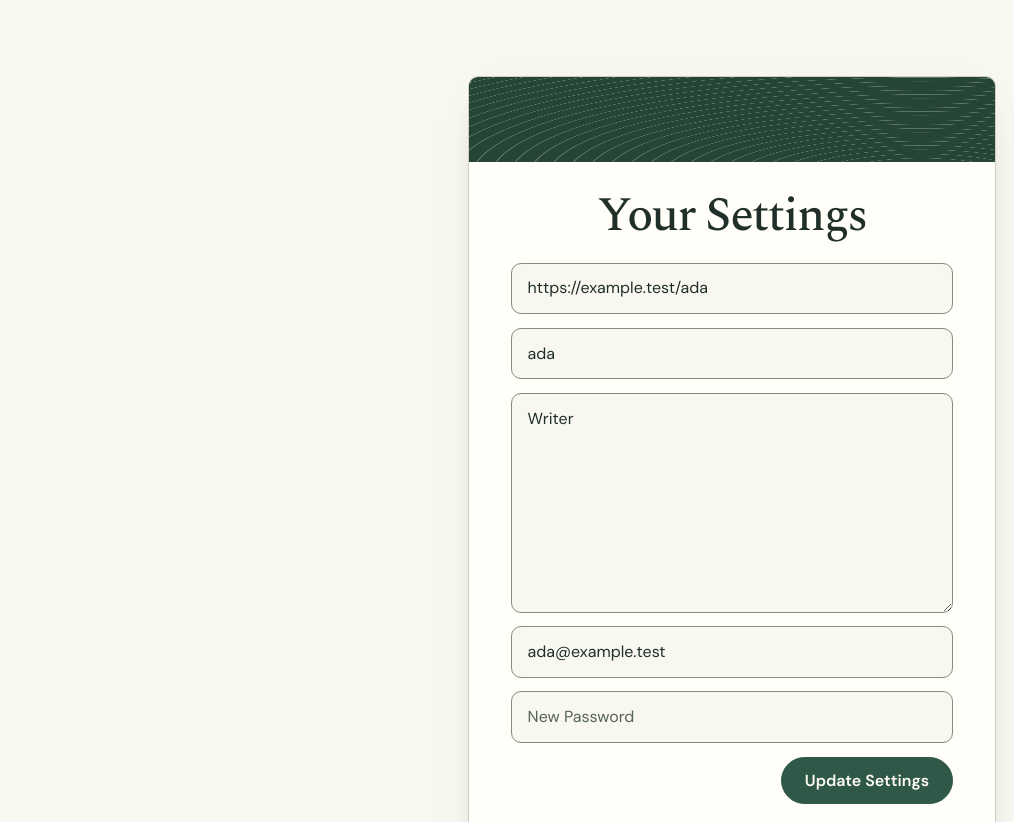
it: account forms › clears optional profile fields, omits a blank password and navigates to the returned username
The image size is (1014, 822).
Clear the text box named "bio": (732, 503) [511,393,953,613]
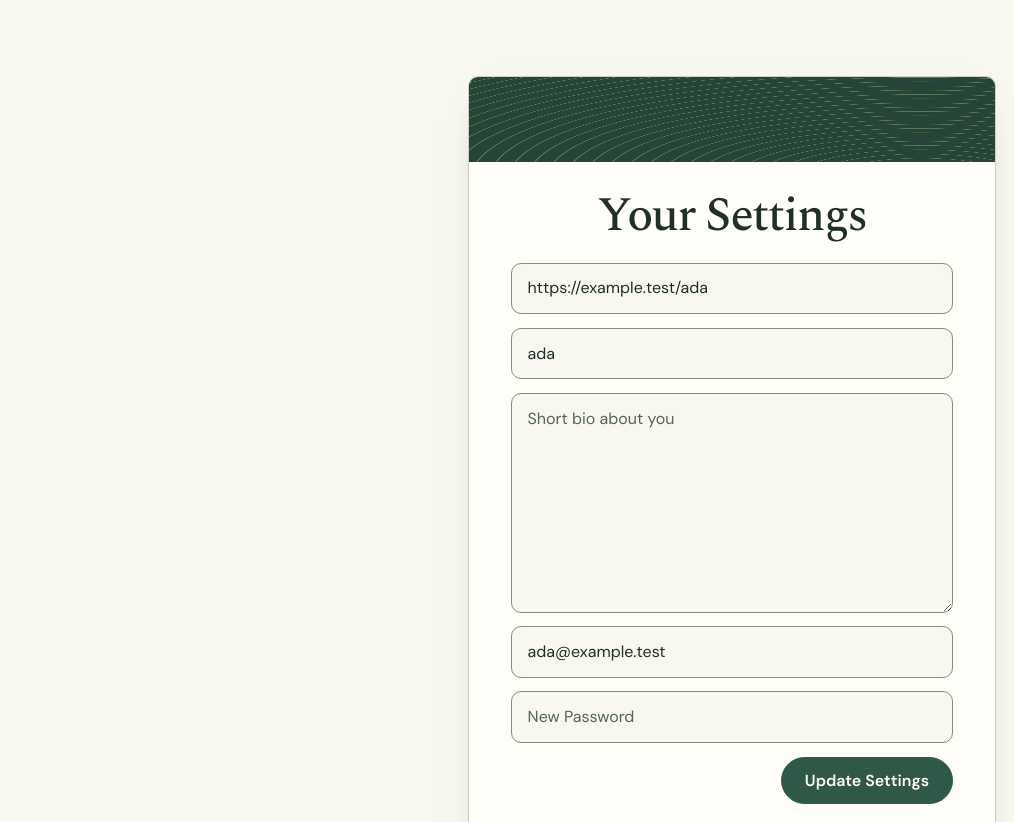
Clear the field named "Profile image URL": (732, 288) [511,263,953,314]
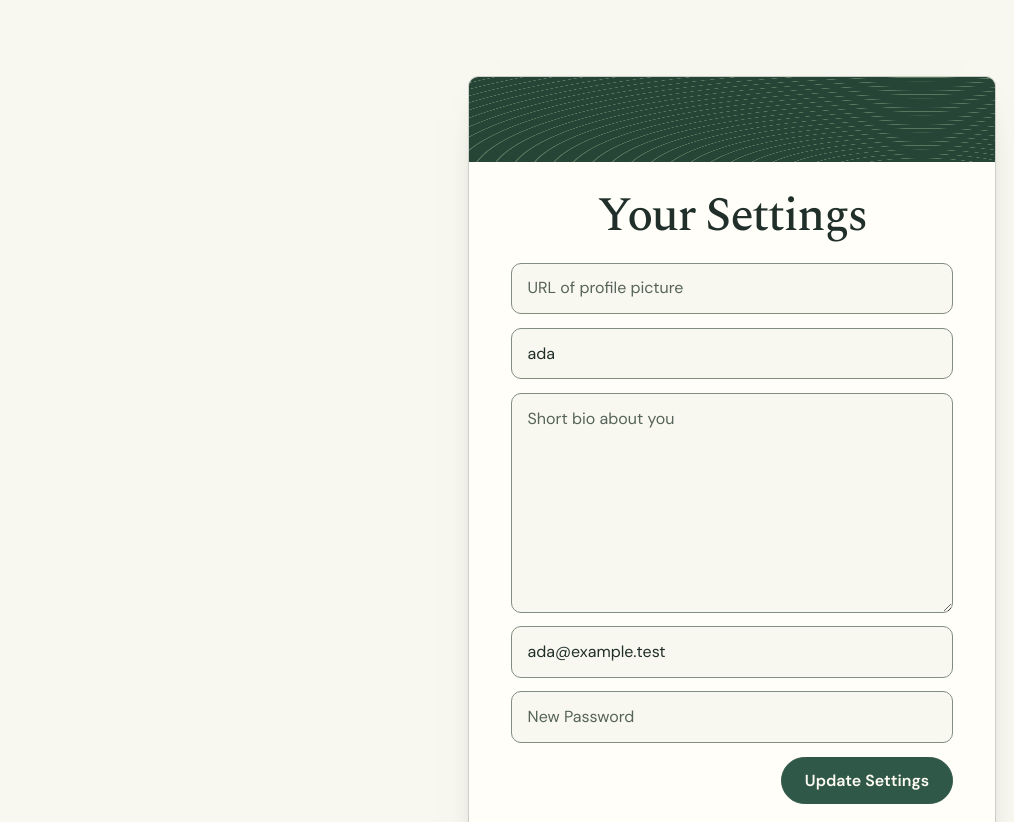
Replace the text in the field named "Username" with "new-name": (732, 354) [511,328,953,379]
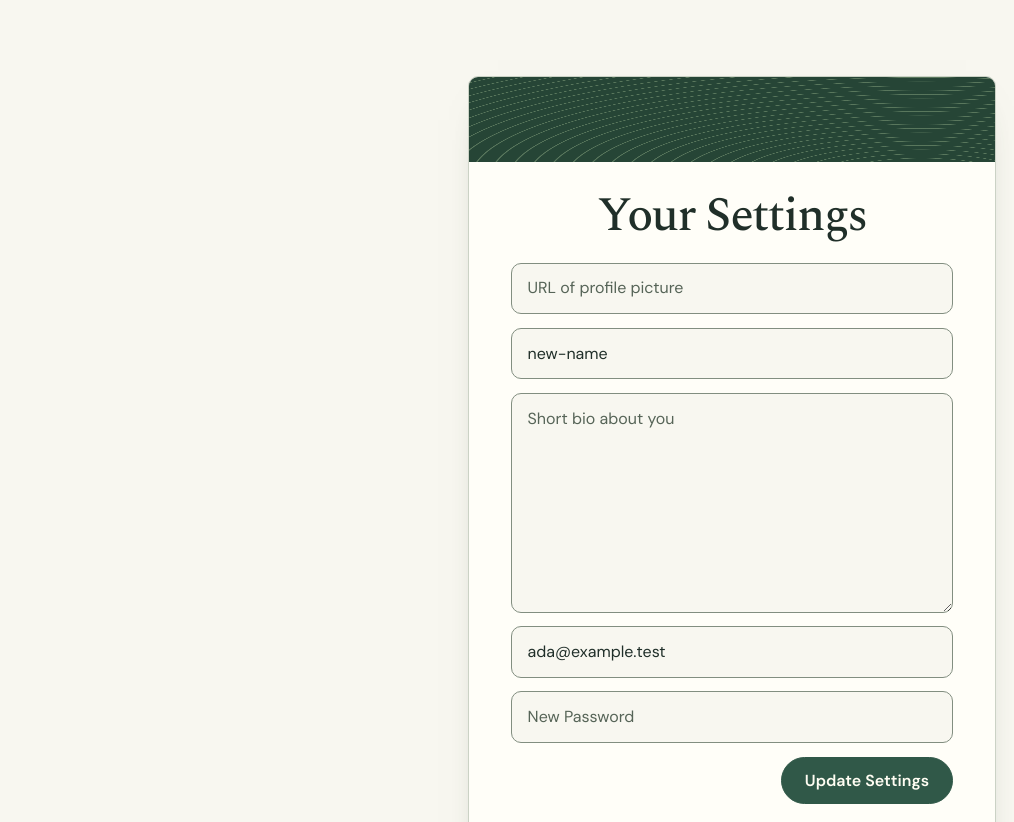
Click the button "Update Settings": (867, 780) [781,756,953,804]
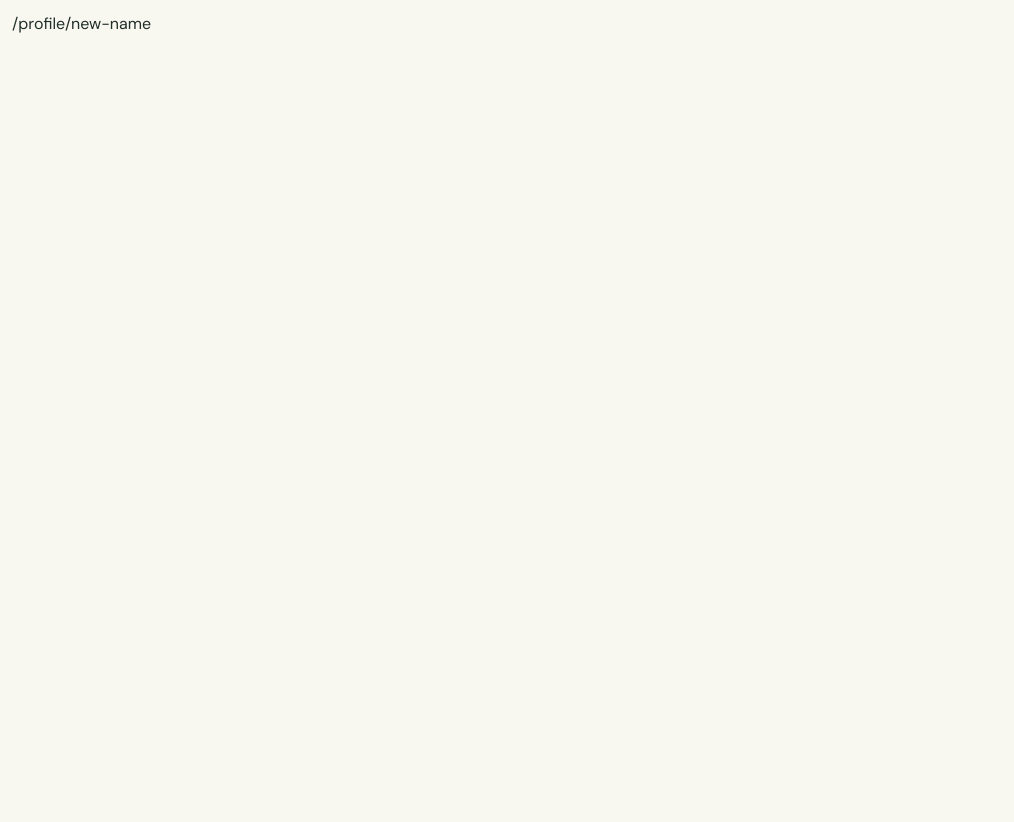
Expected: the text "/profile/new-name" is shown, [12,13,151,34]
